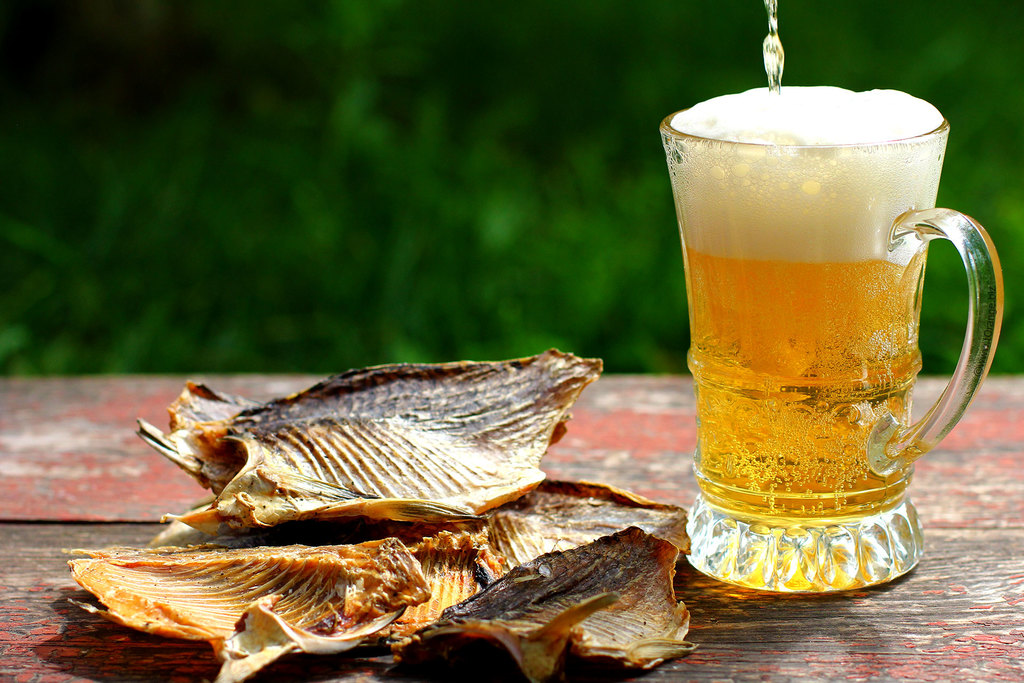Beer: (664, 81, 946, 522)
